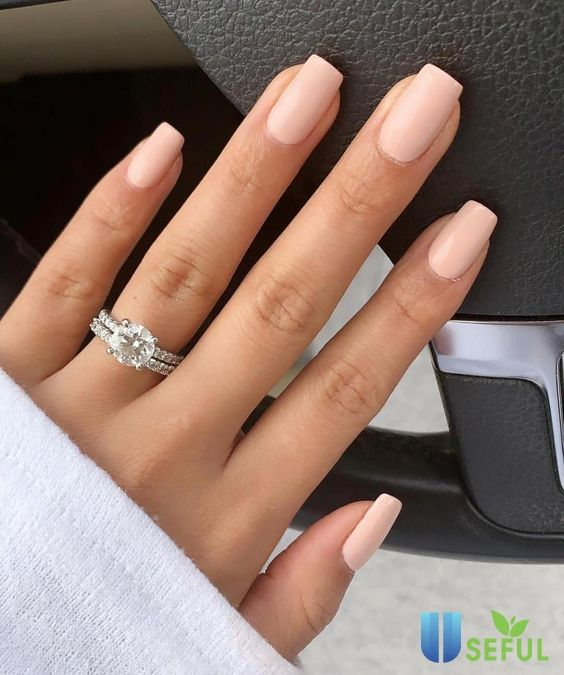nails: (370, 57, 465, 169), (251, 50, 348, 153), (423, 195, 499, 284), (336, 484, 406, 574), (122, 117, 191, 192)
